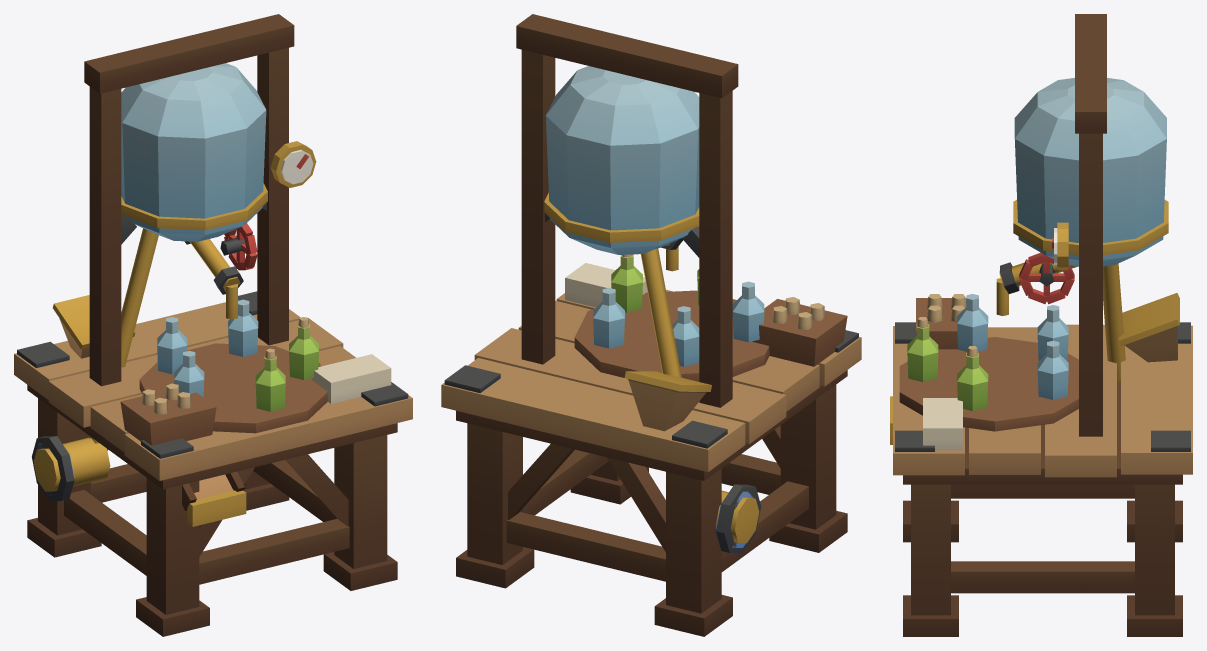
The model's file is mach_bottler.glb.
3 views of the same model, side by side, from view 1: azimuth 30°, elevation 25°; view 2: azimuth 150°, elevation 25°; view 3: azimuth 270°, elevation 25° (orthographic). The views are drawn at different scales.
Parts seen in each view (by area): view 1: mach_bottler; view 2: mach_bottler; view 3: mach_bottler.
Boxes of the visible parts, x1=… form: mach_bottler: x1=14, y1=14, x2=412, y2=636; mach_bottler: x1=441, y1=14, x2=861, y2=636; mach_bottler: x1=890, y1=14, x2=1192, y2=636.
Bounding box in the file's own units: 3.88 × 7.1 × 3.79.
1 material, 1 textured.
